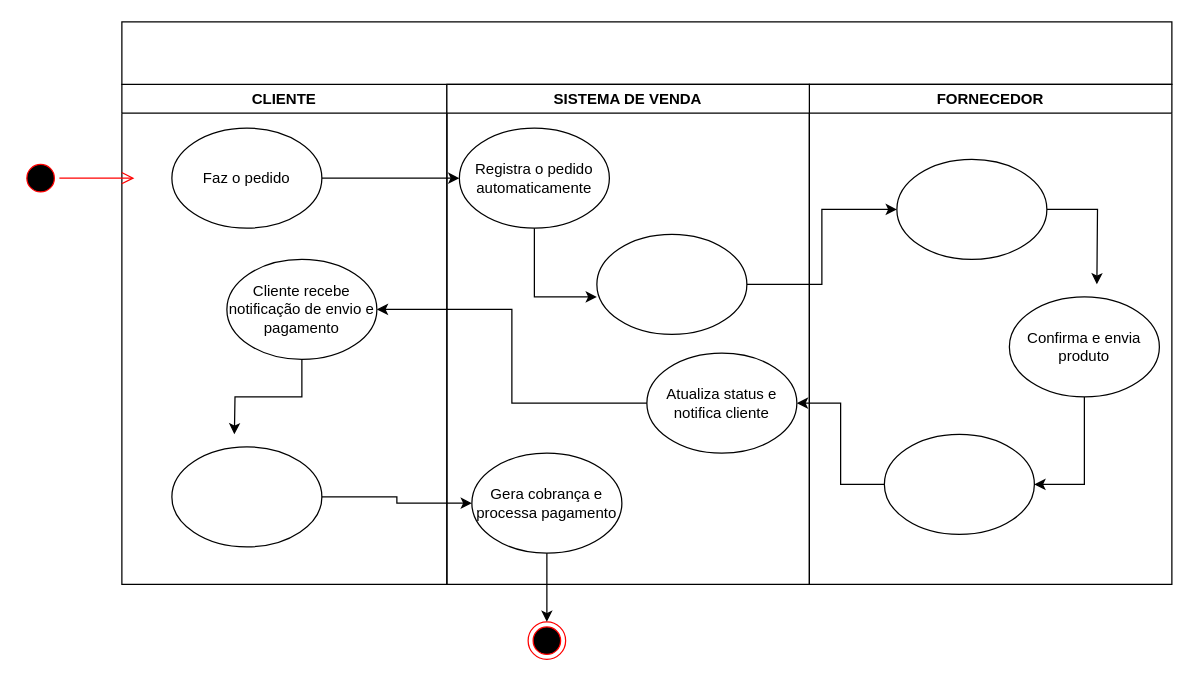
Image size: 1194x681. Some labels were removed from this diagram. Each missing label, with the centre of its shape:
Confirma entrega no sistema: the point at 958,483
Envia pro fornecedor: the point at 671,283
Recebe o pedido: the point at 971,208
Recebe o produto: the point at 246,496
SISTEMA DE MELHORIA: the point at 646,52
